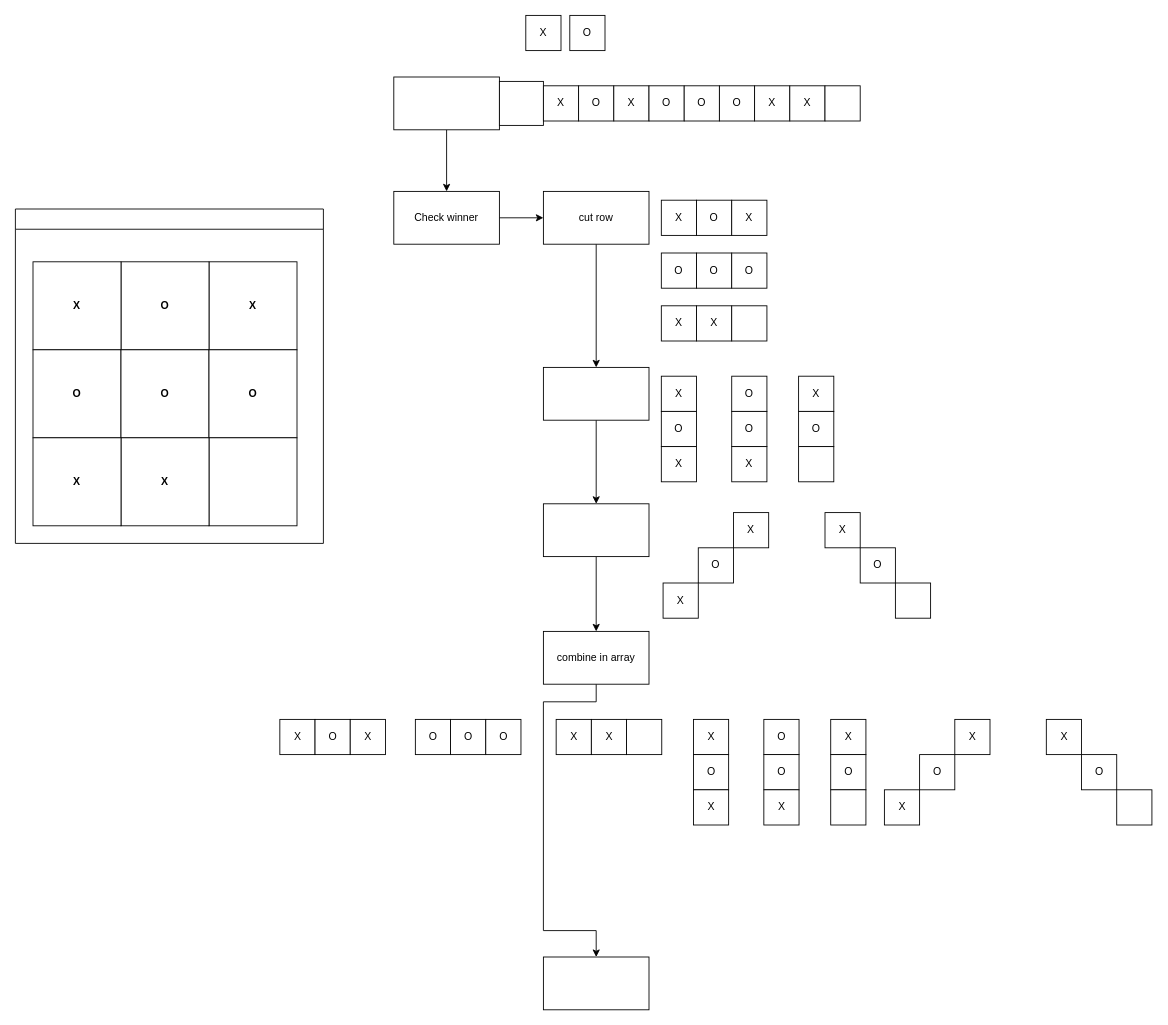
The diagram is 1168 pixels wide and 1025 high, and some of its shapes have lost their labels. The box of each missing label's shape, as (x1, y1, x2, y2) in pixels:
Array: (499, 81, 543, 125)
board data: (393, 76, 499, 130)
check every line is same value: (543, 956, 649, 1010)
cut col: (543, 367, 649, 420)
Cut diagonal: (543, 503, 649, 557)
render board: (15, 208, 323, 543)
